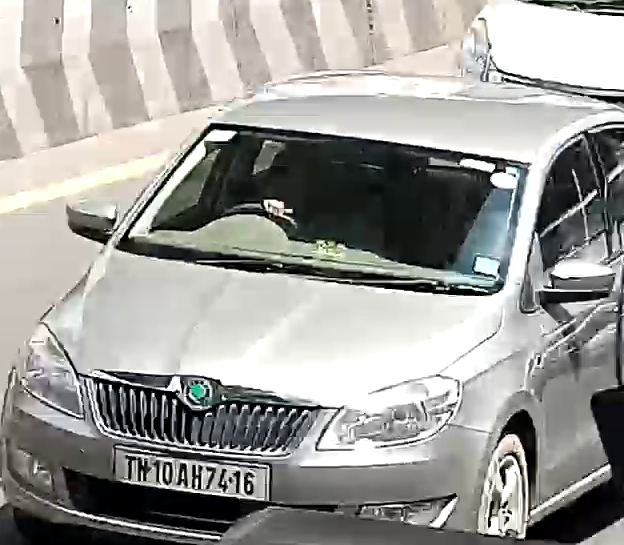0: (163, 461, 173, 485)
1: (233, 471, 242, 494), (153, 459, 161, 484)
4: (218, 468, 229, 494)
6: (244, 472, 255, 495)
7: (205, 466, 217, 489)
A: (176, 463, 189, 487)
H: (191, 463, 203, 490)
N: (137, 457, 148, 483)
P7: (109, 444, 273, 503)
T: (125, 455, 136, 481)
